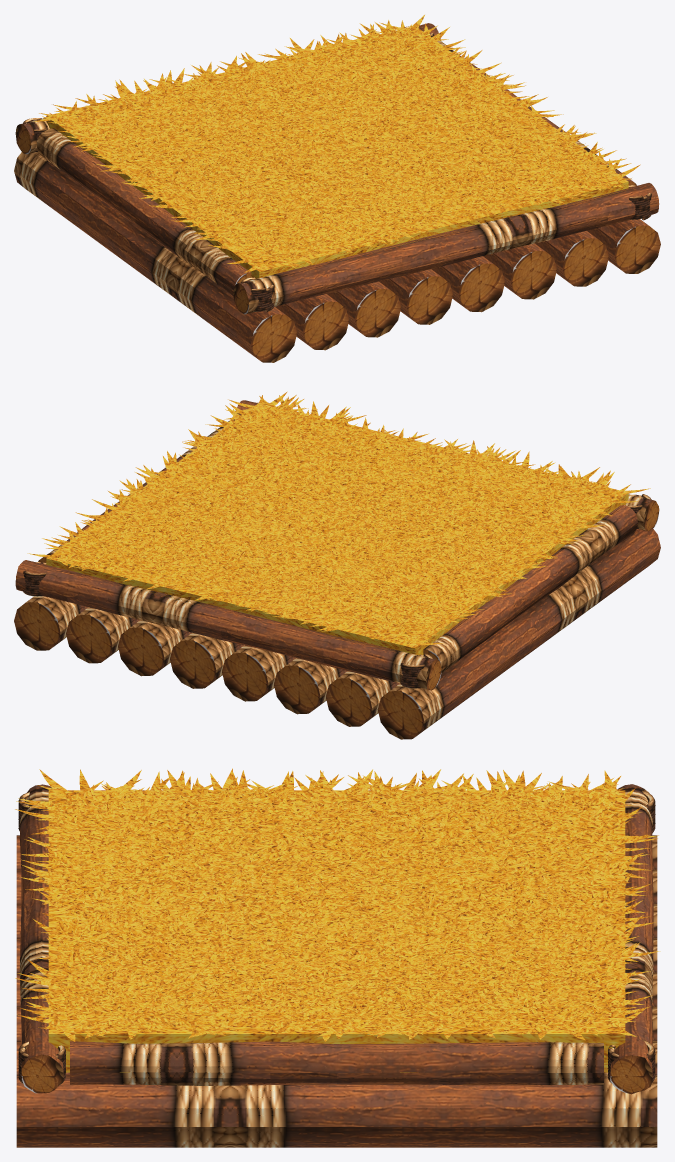
The model's file is Haus_Boden.glb.
3 views of the same model, one above another, from view 1: azimuth 30°, elevation 25°; view 2: azimuth 150°, elevation 25°; view 3: azimuth 270°, elevation 25° (orthographic). The views are drawn at different scales.
Parts seen in each view (by area): view 1: boden; view 2: boden; view 3: boden.
Boxes of the visible parts, x1,y1,x2,y2 form: boden: (14, 15, 660, 362); boden: (14, 391, 660, 739); boden: (15, 768, 660, 1147).
Size of the model in its own units: 3.02 by 0.624 by 3.03.
4 materials, 4 textured.
